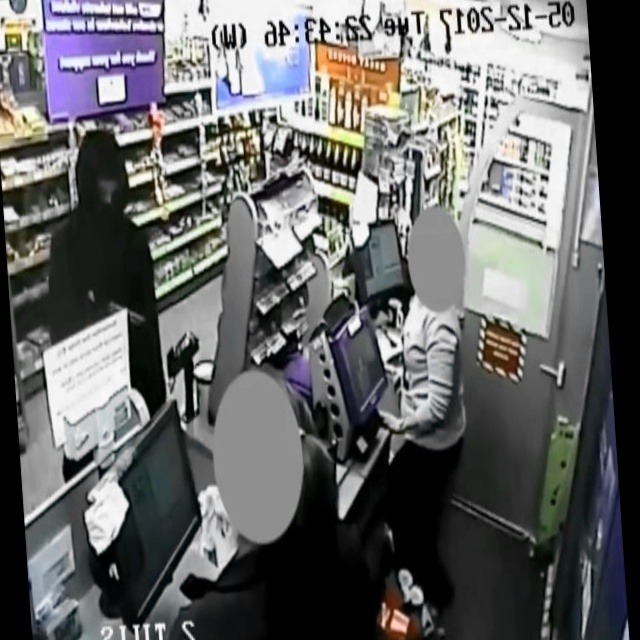gun: (101, 296, 145, 337)
